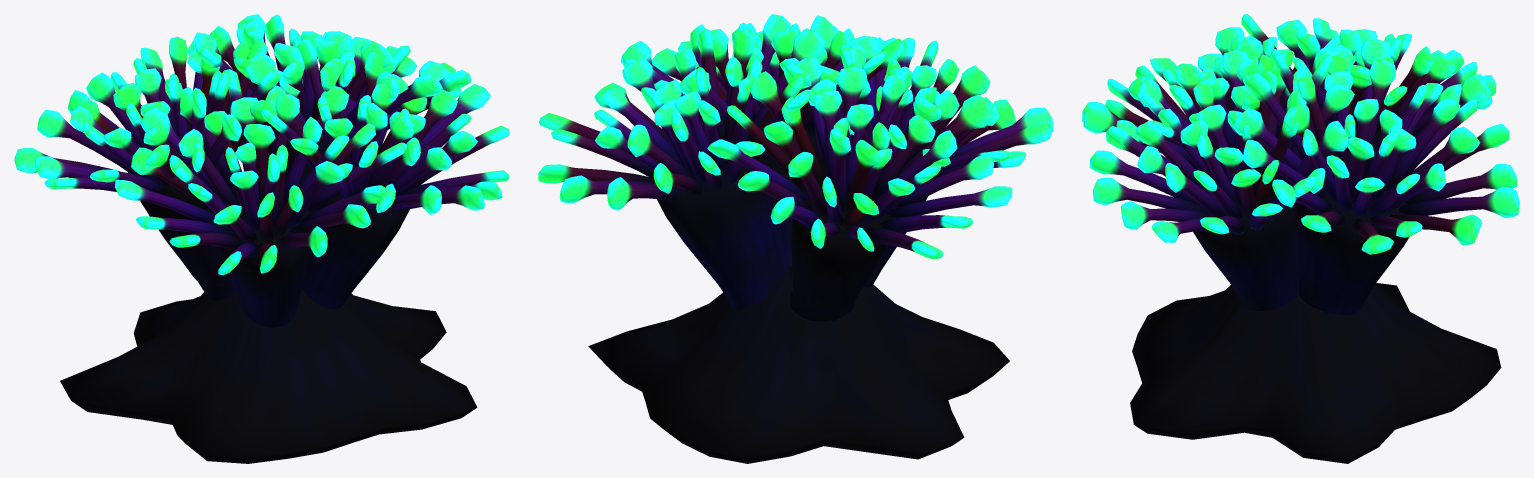
File: coral-euphyllia-hammer.glb
3 views of the same model, side by side, from view 1: azimuth 30°, elevation 25°; view 2: azimuth 150°, elevation 25°; view 3: azimuth 270°, elevation 25° (orthographic). The views are drawn at different scales.
Parts seen in each view (by area): view 1: Euphyllia_Hammer_Polyp_Crown, Euphyllia_Hammer_Skeleton; view 2: Euphyllia_Hammer_Polyp_Crown, Euphyllia_Hammer_Skeleton; view 3: Euphyllia_Hammer_Polyp_Crown, Euphyllia_Hammer_Skeleton.
Boxes of the visible parts, x1,y1,x2,y2 form: Euphyllia_Hammer_Polyp_Crown: (14, 14, 509, 275); Euphyllia_Hammer_Skeleton: (60, 129, 477, 463); Euphyllia_Hammer_Polyp_Crown: (538, 14, 1053, 259); Euphyllia_Hammer_Skeleton: (588, 126, 1009, 463); Euphyllia_Hammer_Polyp_Crown: (1082, 14, 1519, 254); Euphyllia_Hammer_Skeleton: (1130, 122, 1501, 463).
Bounding box in the file's own units: 0.2027 × 0.1511 × 0.1782.
2 materials, 2 textured.
